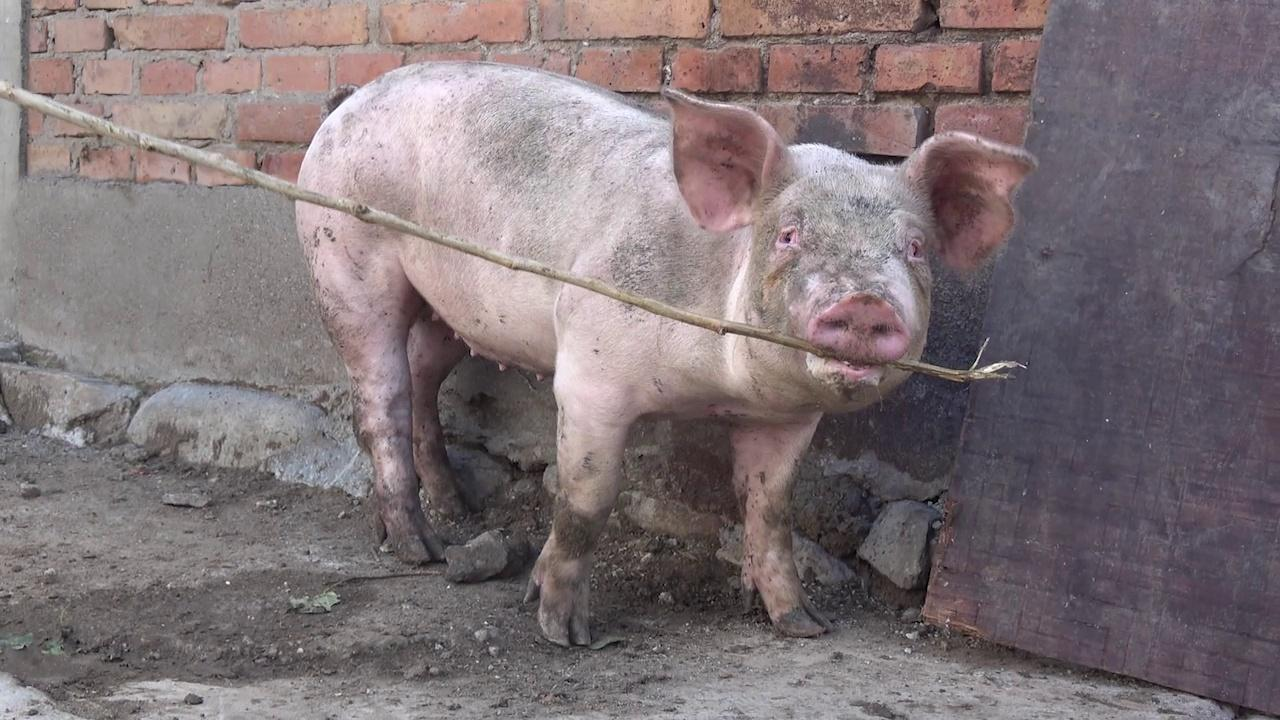Face: (655, 80, 1037, 388)
